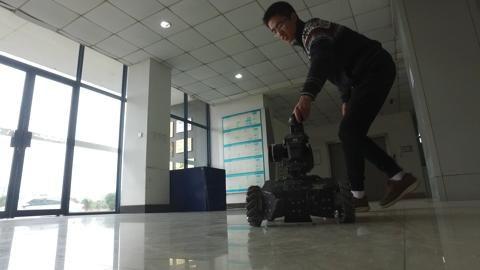chariot: (238, 117, 363, 229)
